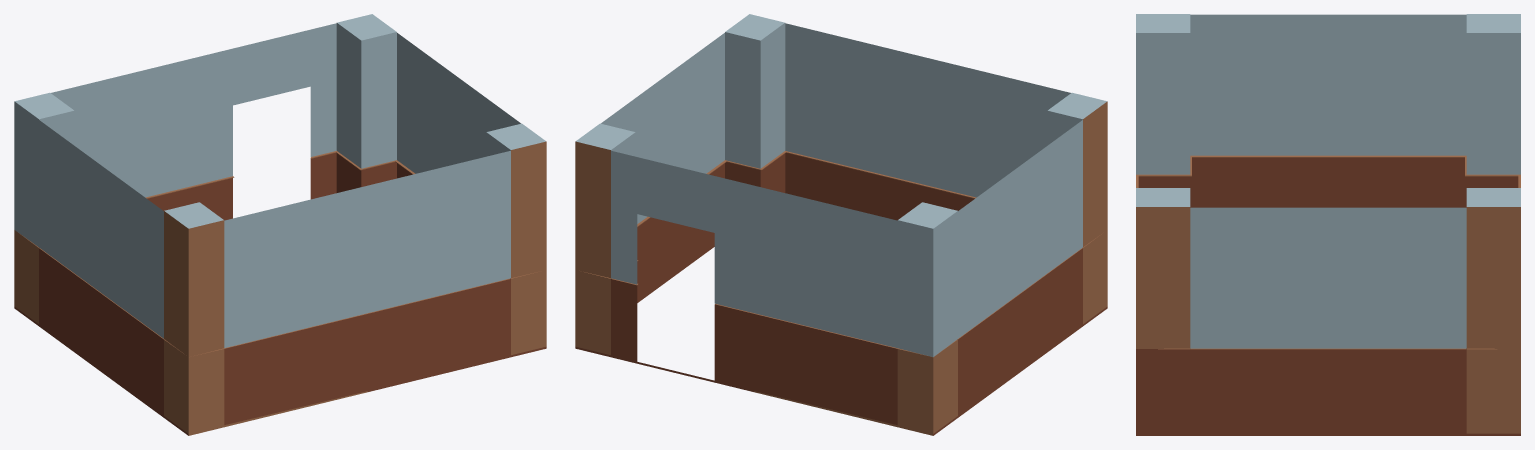
Rendered from CullingWalls.glb.
The picture shows the model from 3 angles, left to right: view 1: azimuth 30°, elevation 25°; view 2: azimuth 150°, elevation 25°; view 3: azimuth 270°, elevation 25°; orthographic projection. The views are drawn at different scales.
Visible parts, largest first — view 1: Cube.002, Cube.001, Cube; view 2: Cube.001, Cube.002, Cube; view 3: Cube, Cube.002, Cube.001.
Boxes of the visible parts, x1=… form: Cube.002: x1=164, y1=123, x2=546, y2=433; Cube.001: x1=14, y1=14, x2=396, y2=323; Cube: x1=14, y1=33, x2=546, y2=435; Cube.001: x1=575, y1=123, x2=957, y2=433; Cube.002: x1=725, y1=14, x2=1107, y2=323; Cube: x1=575, y1=33, x2=1107, y2=435; Cube: x1=1136, y1=14, x2=1520, y2=435; Cube.002: x1=1136, y1=14, x2=1191, y2=433; Cube.001: x1=1466, y1=14, x2=1520, y2=433.
Bounding box in the file's own units: 5.29 × 2.93 × 4.46.
Materials: 1 (1 with a texture image).
